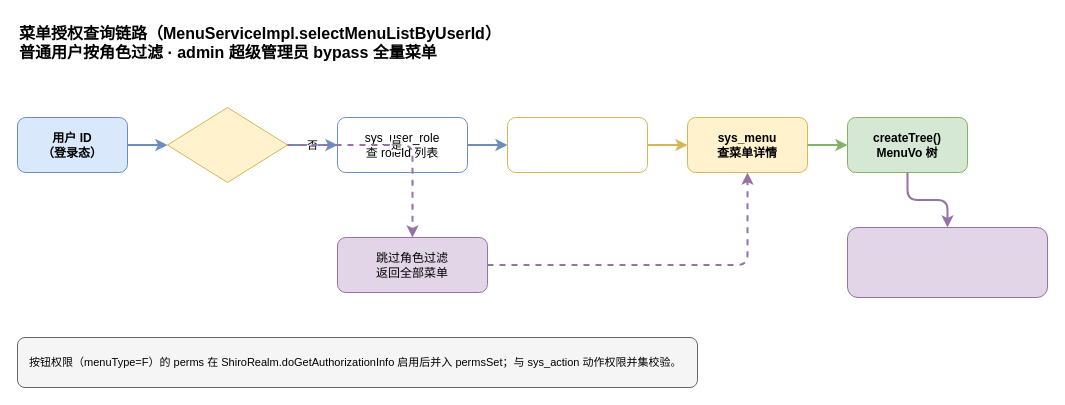
Some shapes in this 1065 by 405 pixel diagram are drawn without their labels. Here are the shapes that lost their labels. From the top down, the centre of each, then its label:
the point at 227,144: userName = admin ?
the point at 577,144: sys_role_menu 查 menuId 列表
the point at 947,262: 前端 getRouters / LoginVo.menuVoList 动态路由 + 侧栏
